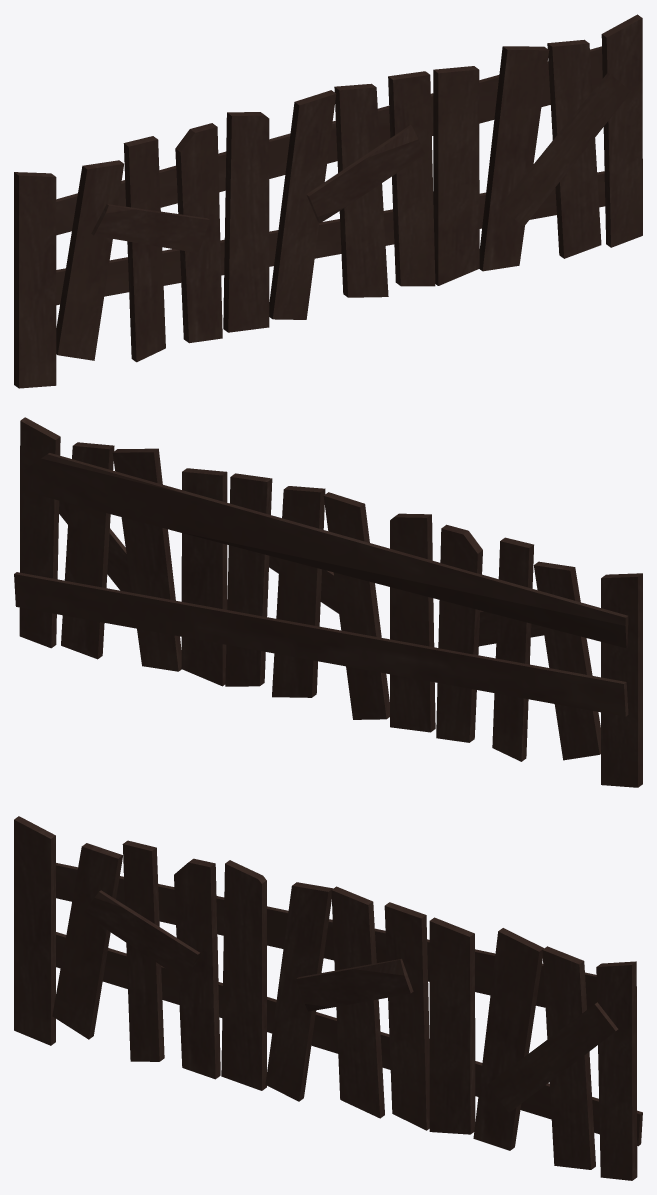
Rendered from SM_Barriere_002.fbx.
The picture shows the model from 3 angles, top to bottom: view 1: azimuth 30°, elevation 25°; view 2: azimuth 150°, elevation 25°; view 3: azimuth 330°, elevation 25°; orthographic projection.
Parts seen in each view (by area): view 1: pCube21; view 2: pCube21; view 3: pCube21.
Part boxes in pixels (<box>): pCube21: <box>14,14,642,388</box>; pCube21: <box>14,417,642,787</box>; pCube21: <box>14,816,642,1180</box>.
Size of the model in its own units: 411 by 142 by 11.94.
